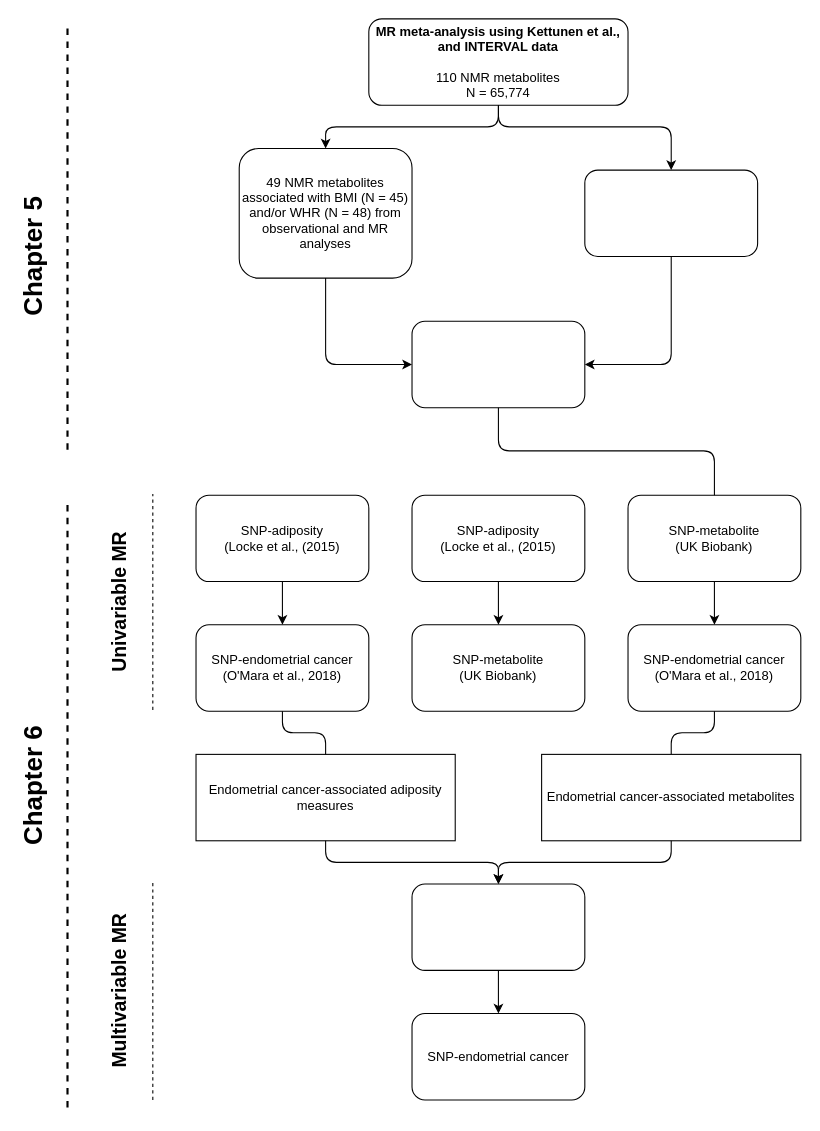
This 820x1131 diagram has some shape labels left out. Each missing label, with the centre of its shape:
"55 NMR metabolites associated with adiposity from observational and MR analyses" goes at (x=498, y=364).
"9 NMR metabolites associated with BF in observational and MR analyses" goes at (x=671, y=212).
"SNP-adiposity-metabolite" goes at (x=498, y=926).
